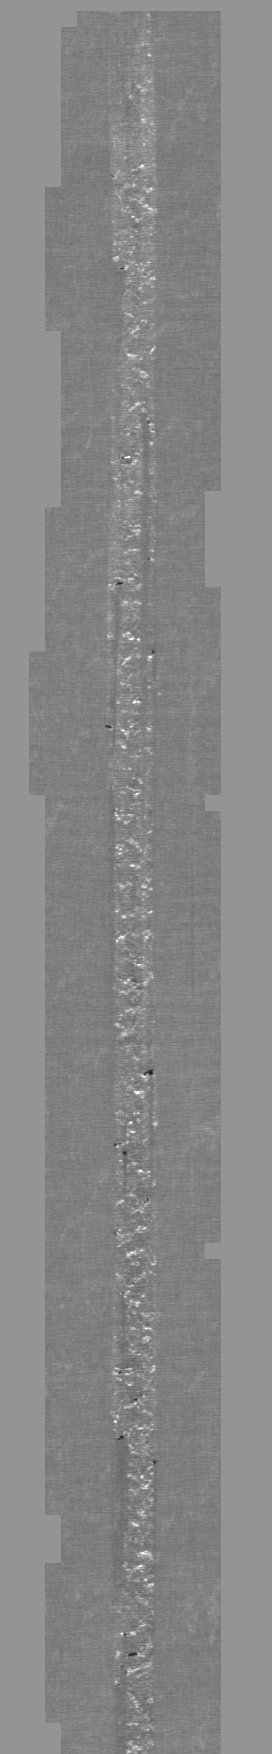oxl: (35, 10, 237, 1744)
